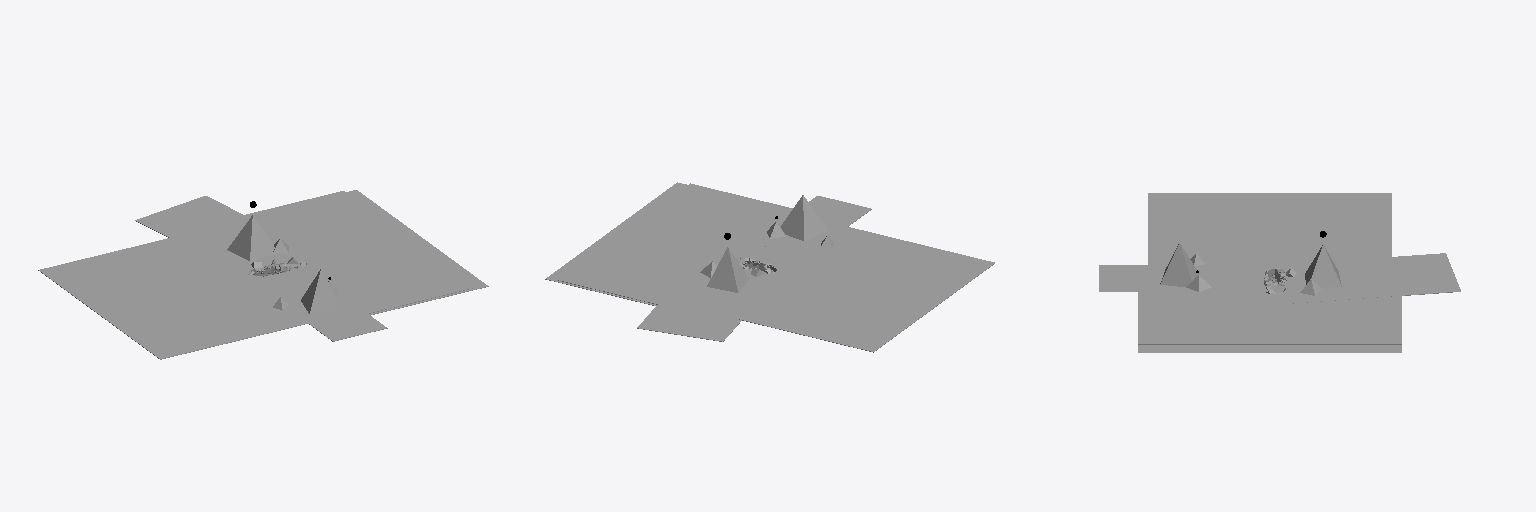
File: Landscape_Final.obj
3 views of the same model, side by side, from view 1: azimuth 30°, elevation 25°; view 2: azimuth 150°, elevation 25°; view 3: azimuth 270°, elevation 25° (orthographic).
Visible parts, largest first — view 1: pasted__pasted__pasted__pasted__pCube1 pasted__pasted__pasted__g, pasted__pCube1 group1, pasted__pasted__pCube1 pasted__group1 group2, pasted__pasted__pasted__pCube1 pasted__pasted__group1 pasted__gr, group35 pasted__pasted__pasted__pPyramid1 pasted__pasted__group , pasted__pasted__pPyramid1 pasted__group group10; view 2: pasted__pasted__pasted__pasted__pCube1 pasted__pasted__pasted__g, pasted__pCube1 group1, pasted__pasted__pCube1 pasted__group1 group2, pasted__pasted__pasted__pCube1 pasted__pasted__group1 pasted__gr, pasted__pasted__pPyramid1 pasted__group group10, group35 pasted__pasted__pasted__pPyramid1 pasted__pasted__group ; view 3: pasted__pasted__pasted__pasted__pCube1 pasted__pasted__pasted__g, pasted__pCube1 group1, pasted__pasted__pCube1 pasted__group1 group2, pasted__pasted__pasted__pCube1 pasted__pasted__group1 pasted__gr, pasted__pasted__pPyramid1 pasted__group group10, group35 pasted__pasted__pasted__pPyramid1 pasted__pasted__group .
Part boxes in pixels (x1,y1,x2,y2): pasted__pasted__pasted__pasted__pCube1 pasted__pasted__pasted__g: (38,191,475,359); pasted__pCube1 group1: (135,196,313,275); pasted__pasted__pCube1 pasted__group1 group2: (253,272,387,341); pasted__pasted__pasted__pCube1 pasted__pasted__group1 pasted__gr: (346,190,488,315); group35 pasted__pasted__pasted__pPyramid1 pasted__pasted__group : (227,215,274,260); pasted__pasted__pPyramid1 pasted__group group10: (301,268,341,314); pasted__pasted__pasted__pasted__pCube1 pasted__pasted__pasted__g: (558,183,994,352); pasted__pCube1 group1: (637,260,779,341); pasted__pasted__pCube1 pasted__group1 group2: (750,196,871,267); pasted__pasted__pasted__pCube1 pasted__pasted__group1 pasted__gr: (545,182,687,305); pasted__pasted__pPyramid1 pasted__group group10: (781,195,828,240); group35 pasted__pasted__pasted__pPyramid1 pasted__pasted__group : (707,247,748,292); pasted__pasted__pasted__pasted__pCube1 pasted__pasted__pasted__g: (1138,193,1401,344); pasted__pCube1 group1: (1278,253,1460,303); pasted__pasted__pCube1 pasted__group1 group2: (1099,265,1260,291); pasted__pasted__pasted__pCube1 pasted__pasted__group1 pasted__gr: (1138,345,1401,352); pasted__pasted__pPyramid1 pasted__group group10: (1160,243,1198,286); group35 pasted__pasted__pasted__pPyramid1 pasted__pasted__group : (1305,245,1341,287).
Size of the model in its own units: 787 by 159 by 765.